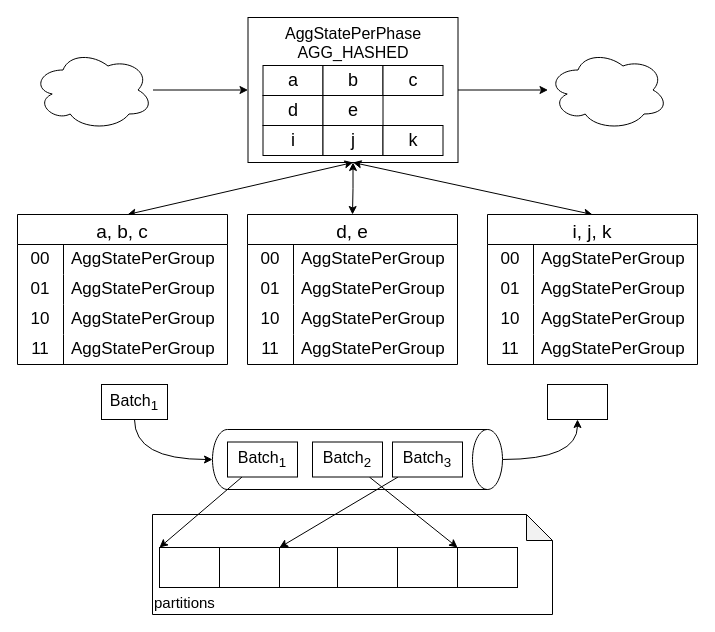
The diagram is 715 pixels wide and 632 high, and some of its shapes have lost their labels. The centre of each missing label's shape, as x and y in pixels:
Batch n: the point at 577,402
Вход: the point at 92,89
Выход: the point at 607,89
